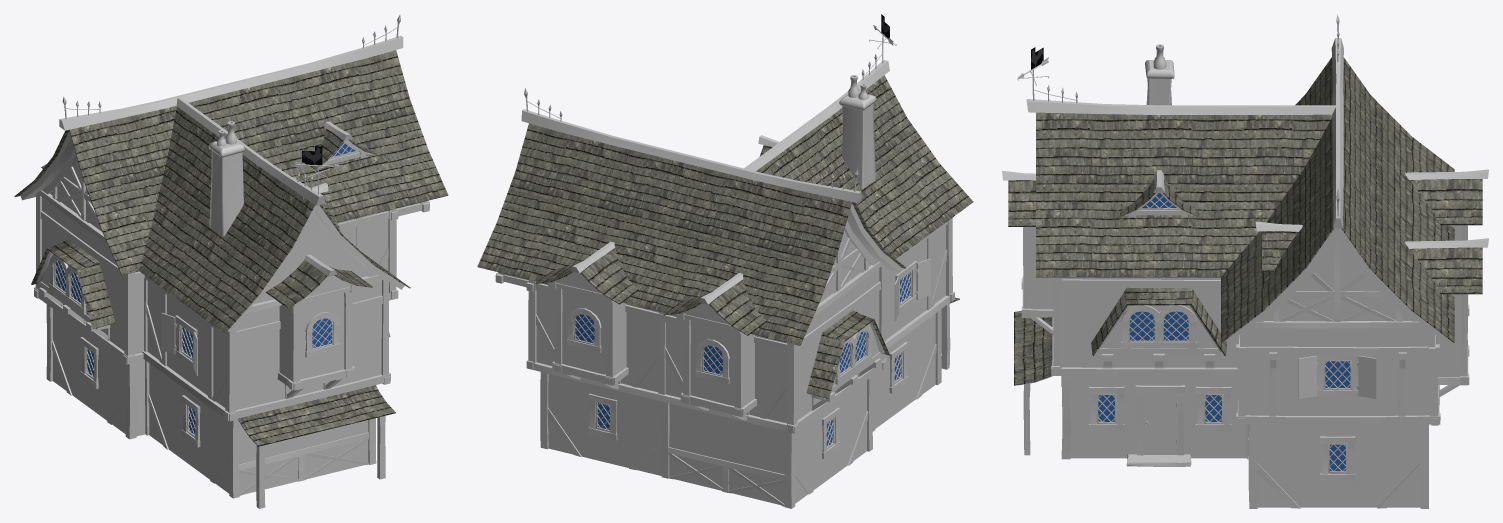
The model's file is mw_type_1_cottage_05.FBX.
The picture shows the model from 3 angles, left to right: view 1: azimuth 30°, elevation 25°; view 2: azimuth 150°, elevation 25°; view 3: azimuth 270°, elevation 25°; orthographic projection. The views are drawn at different scales.
Visible parts, largest first — view 1: mw_type_1_cottage_05_roof, mw_type_1_cottage_05_wood, mw_type_1_cottage_05_stone, mw_type_1_cottage_05, mw_type_1_cottage_07_vane; view 2: mw_type_1_cottage_05_roof, mw_type_1_cottage_05_stone, mw_type_1_cottage_05_wood, mw_type_1_cottage_05; view 3: mw_type_1_cottage_05_roof, mw_type_1_cottage_05_wood, mw_type_1_cottage_05_stone, mw_type_1_cottage_05.
Boxes of the visible parts, x1,y1,x2,y2 form: mw_type_1_cottage_05_roof: (14, 50, 448, 446); mw_type_1_cottage_05_wood: (20, 35, 429, 508); mw_type_1_cottage_05_stone: (42, 121, 388, 494); mw_type_1_cottage_05: (53, 14, 400, 437); mw_type_1_cottage_07_vane: (293, 146, 342, 194); mw_type_1_cottage_05_roof: (477, 75, 973, 398); mw_type_1_cottage_05_stone: (536, 75, 945, 504); mw_type_1_cottage_05_wood: (495, 60, 955, 508); mw_type_1_cottage_05: (524, 53, 930, 449); mw_type_1_cottage_05_roof: (1008, 57, 1482, 385); mw_type_1_cottage_05_wood: (1002, 38, 1488, 508); mw_type_1_cottage_05_stone: (1029, 44, 1461, 507); mw_type_1_cottage_05: (1034, 14, 1376, 473).
Bounding box in the file's own units: 1525 × 1470 × 1734.
